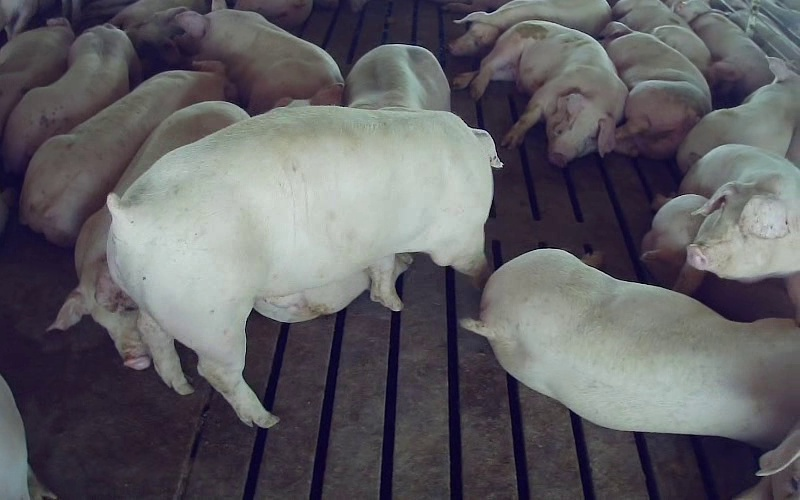pig: (110, 108, 500, 426), (462, 250, 799, 448), (20, 61, 234, 246), (454, 21, 627, 166), (2, 24, 140, 174), (175, 0, 342, 113), (680, 144, 799, 281), (602, 22, 710, 158), (677, 57, 799, 172), (448, 0, 610, 55), (0, 19, 73, 138), (690, 12, 773, 108), (612, 0, 710, 74), (344, 44, 450, 110)
